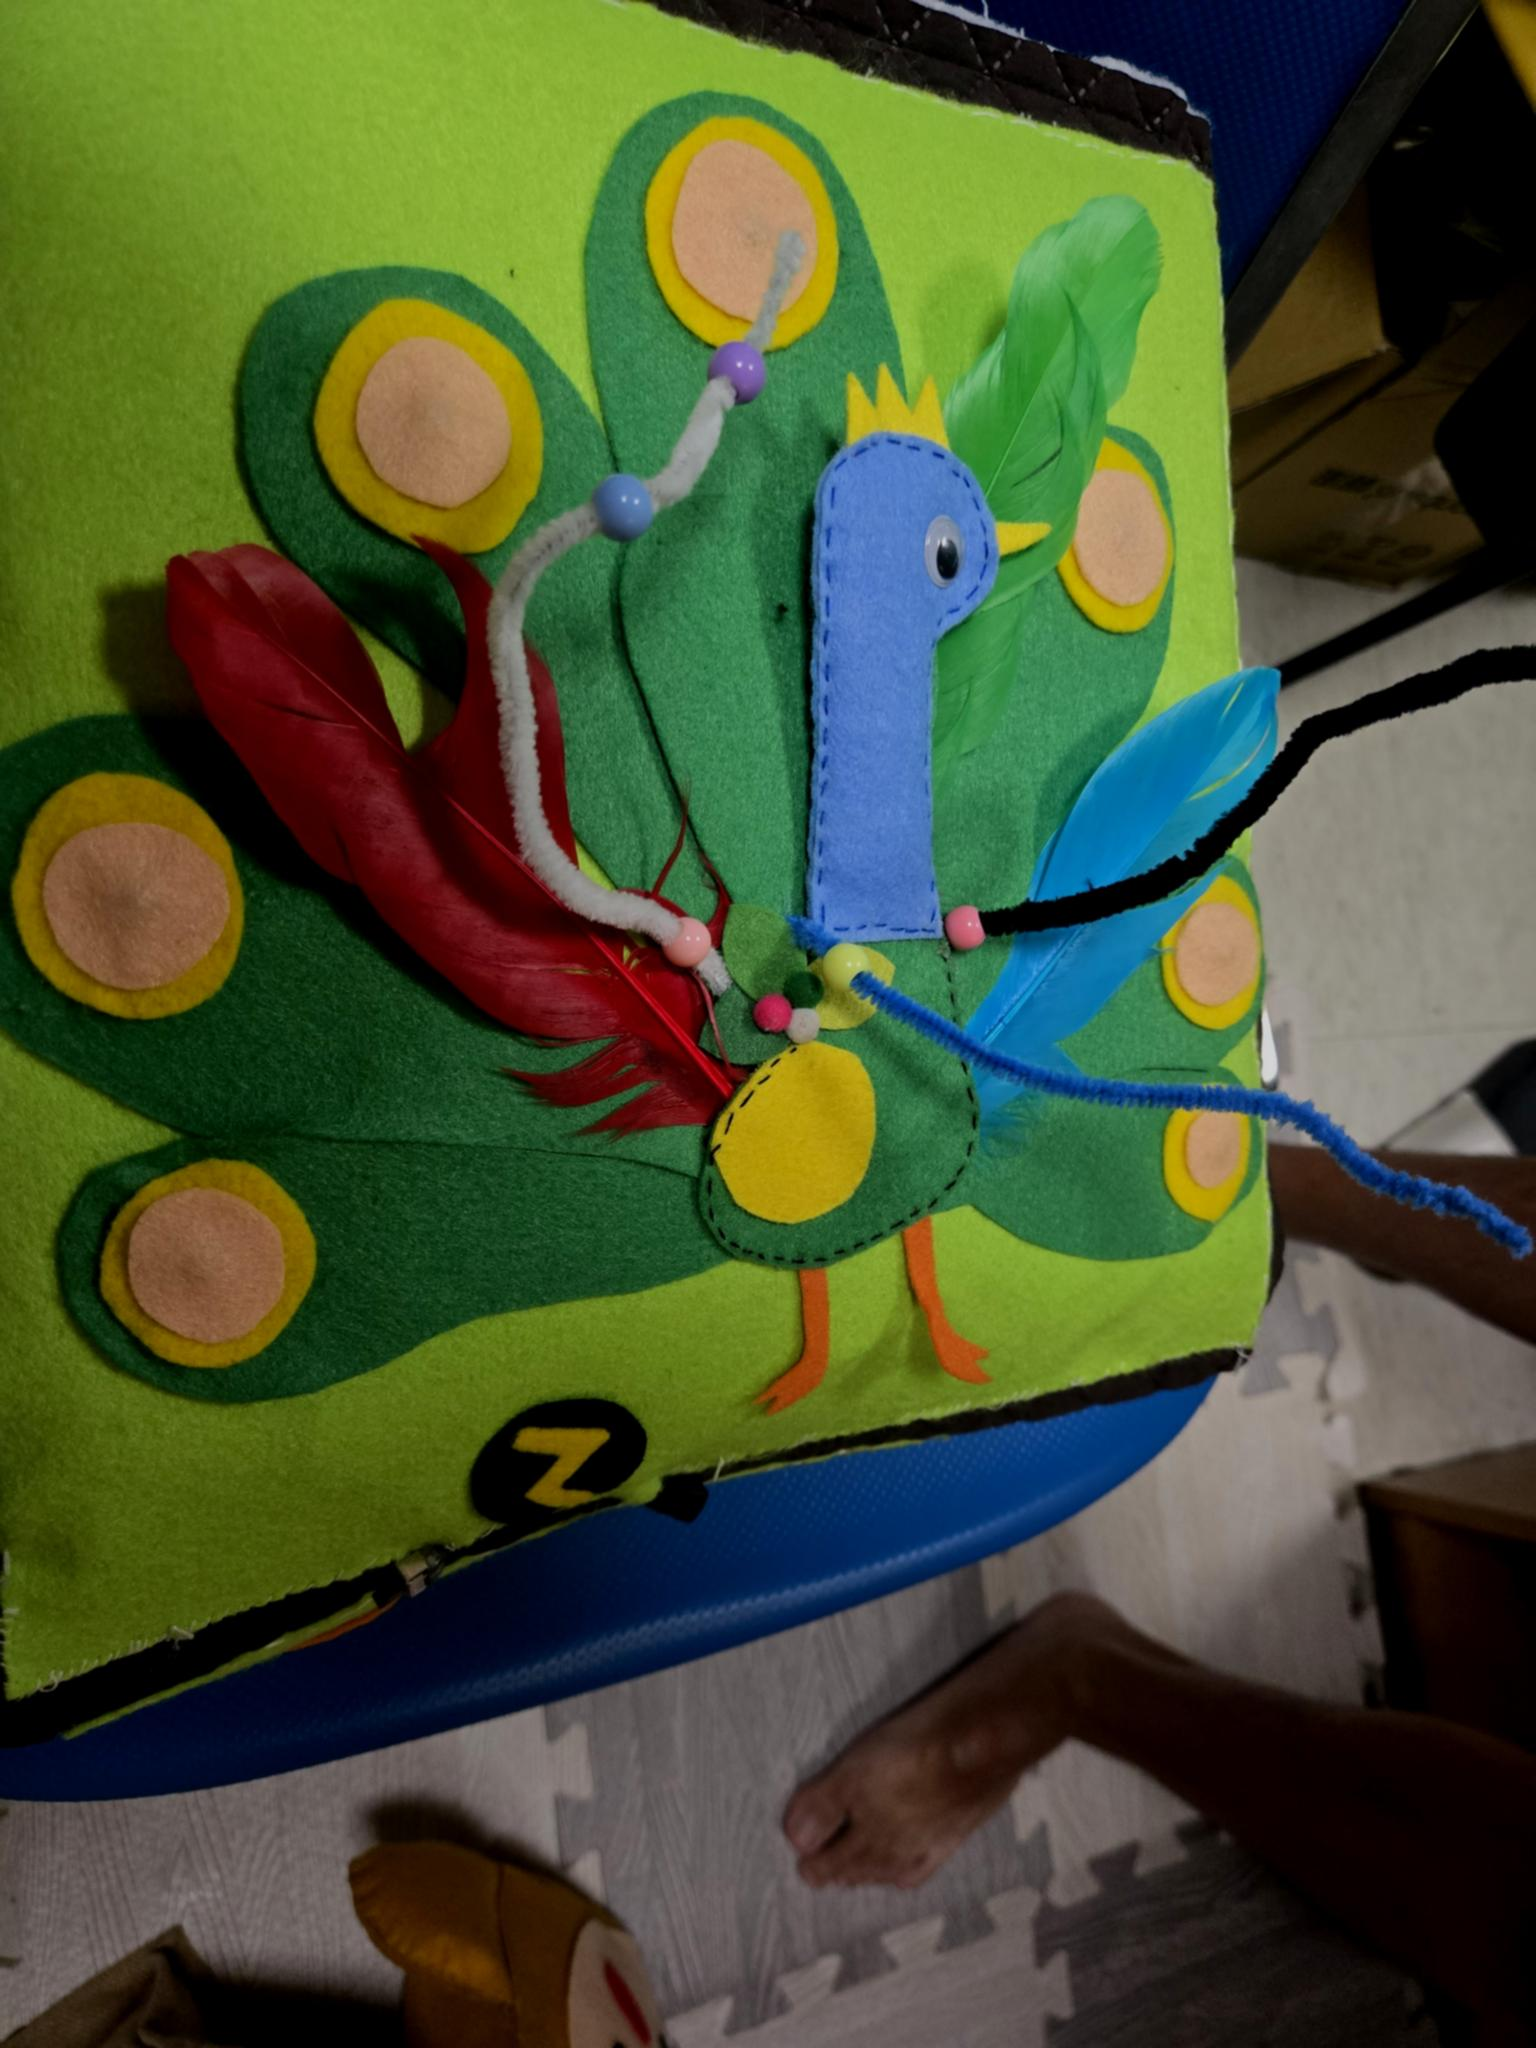bead: (702, 343, 778, 416), (584, 477, 650, 552), (649, 913, 712, 972), (800, 953, 874, 1001), (945, 898, 983, 953)
